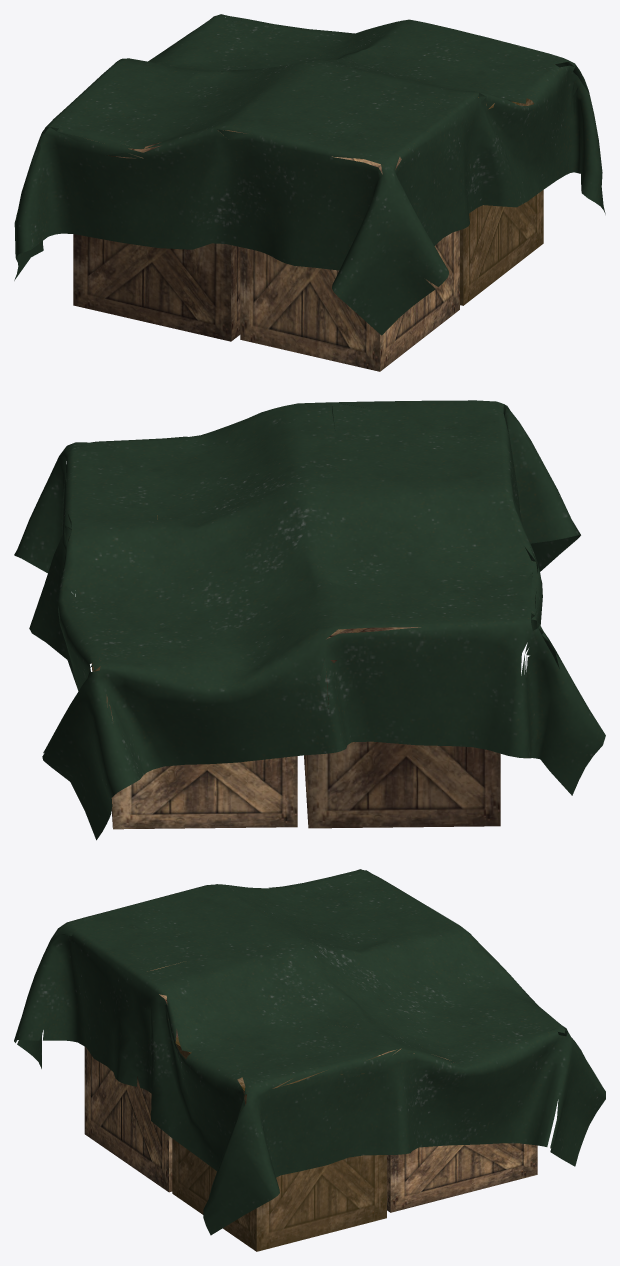
Rendered from tarp_crates.glb.
3 views of the same model, one above another, from view 1: azimuth 30°, elevation 25°; view 2: azimuth 150°, elevation 25°; view 3: azimuth 270°, elevation 25° (orthographic). The views are drawn at different scales.
Parts seen in each view (by area): view 1: tarp_crates; view 2: tarp_crates; view 3: tarp_crates.
Boxes of the visible parts, <box> form: tarp_crates: <box>14,14,605,371</box>; tarp_crates: <box>14,400,605,840</box>; tarp_crates: <box>14,869,605,1251</box>.
Size of the model in its own units: 2.76 by 1.06 by 2.69.
5 materials, 5 textured.
